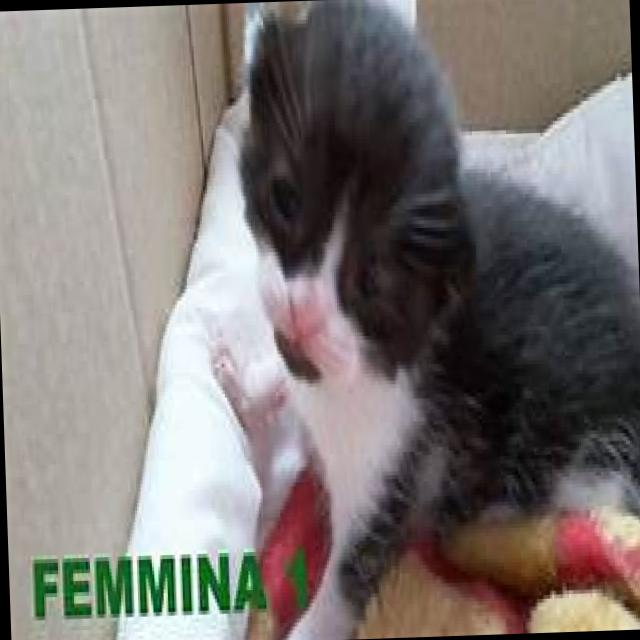animal: (198, 0, 640, 640)
